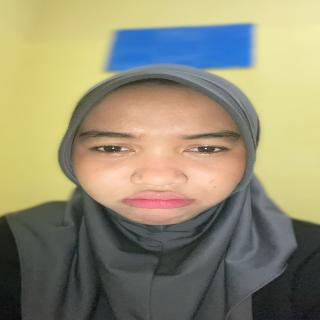Sedih: (70, 81, 250, 228)
